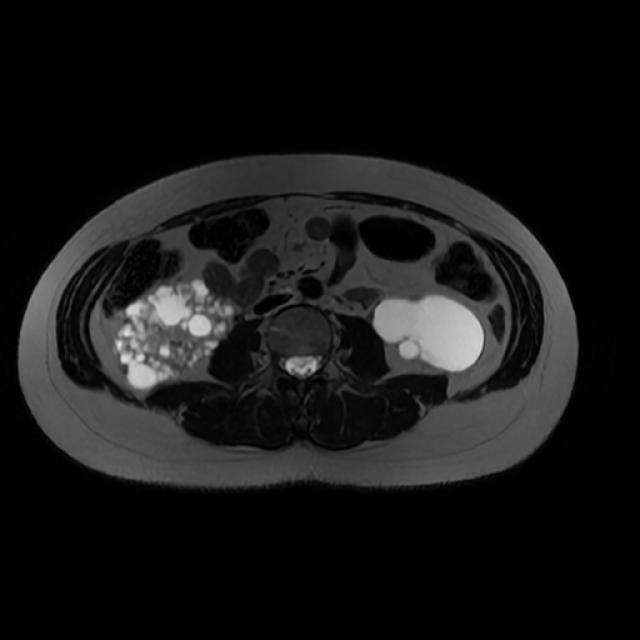sag: (110, 277, 244, 388)
sol: (371, 295, 485, 373)
